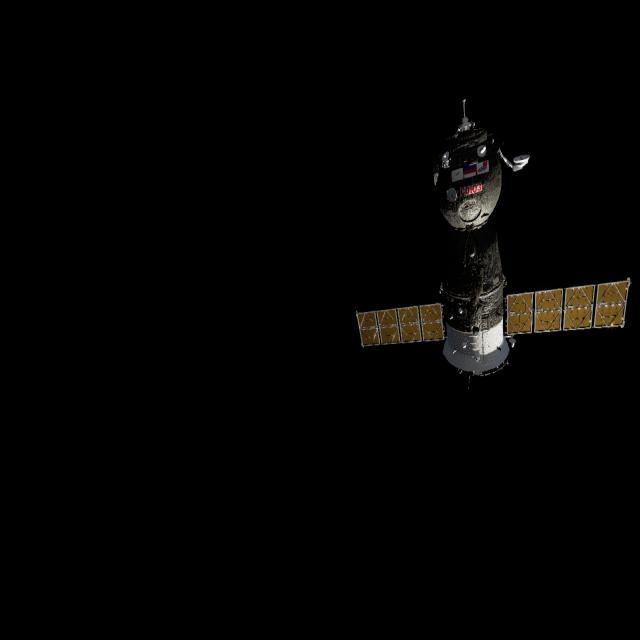Satellites revolving around earth: (354, 95, 631, 381)
